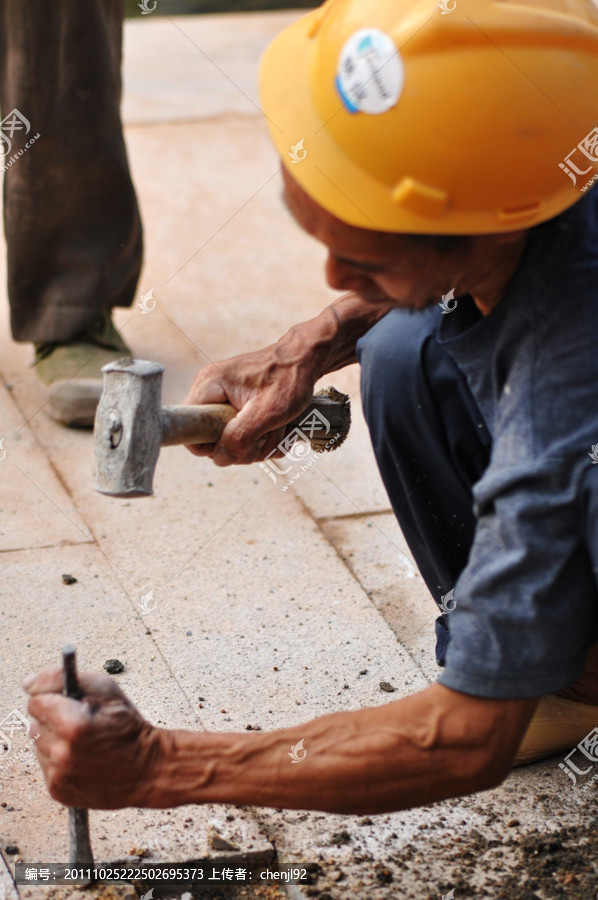safetyhat: (186, 1, 598, 641)
